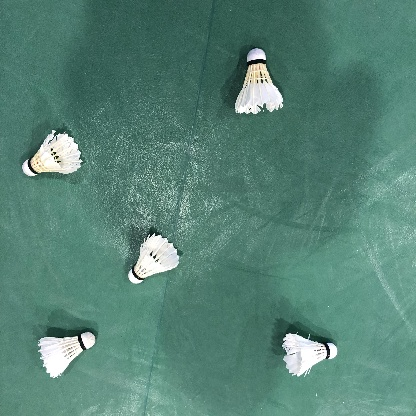ball_single: (235, 48, 283, 114), (22, 130, 83, 176), (38, 332, 95, 379), (128, 233, 180, 284), (282, 333, 337, 377)
